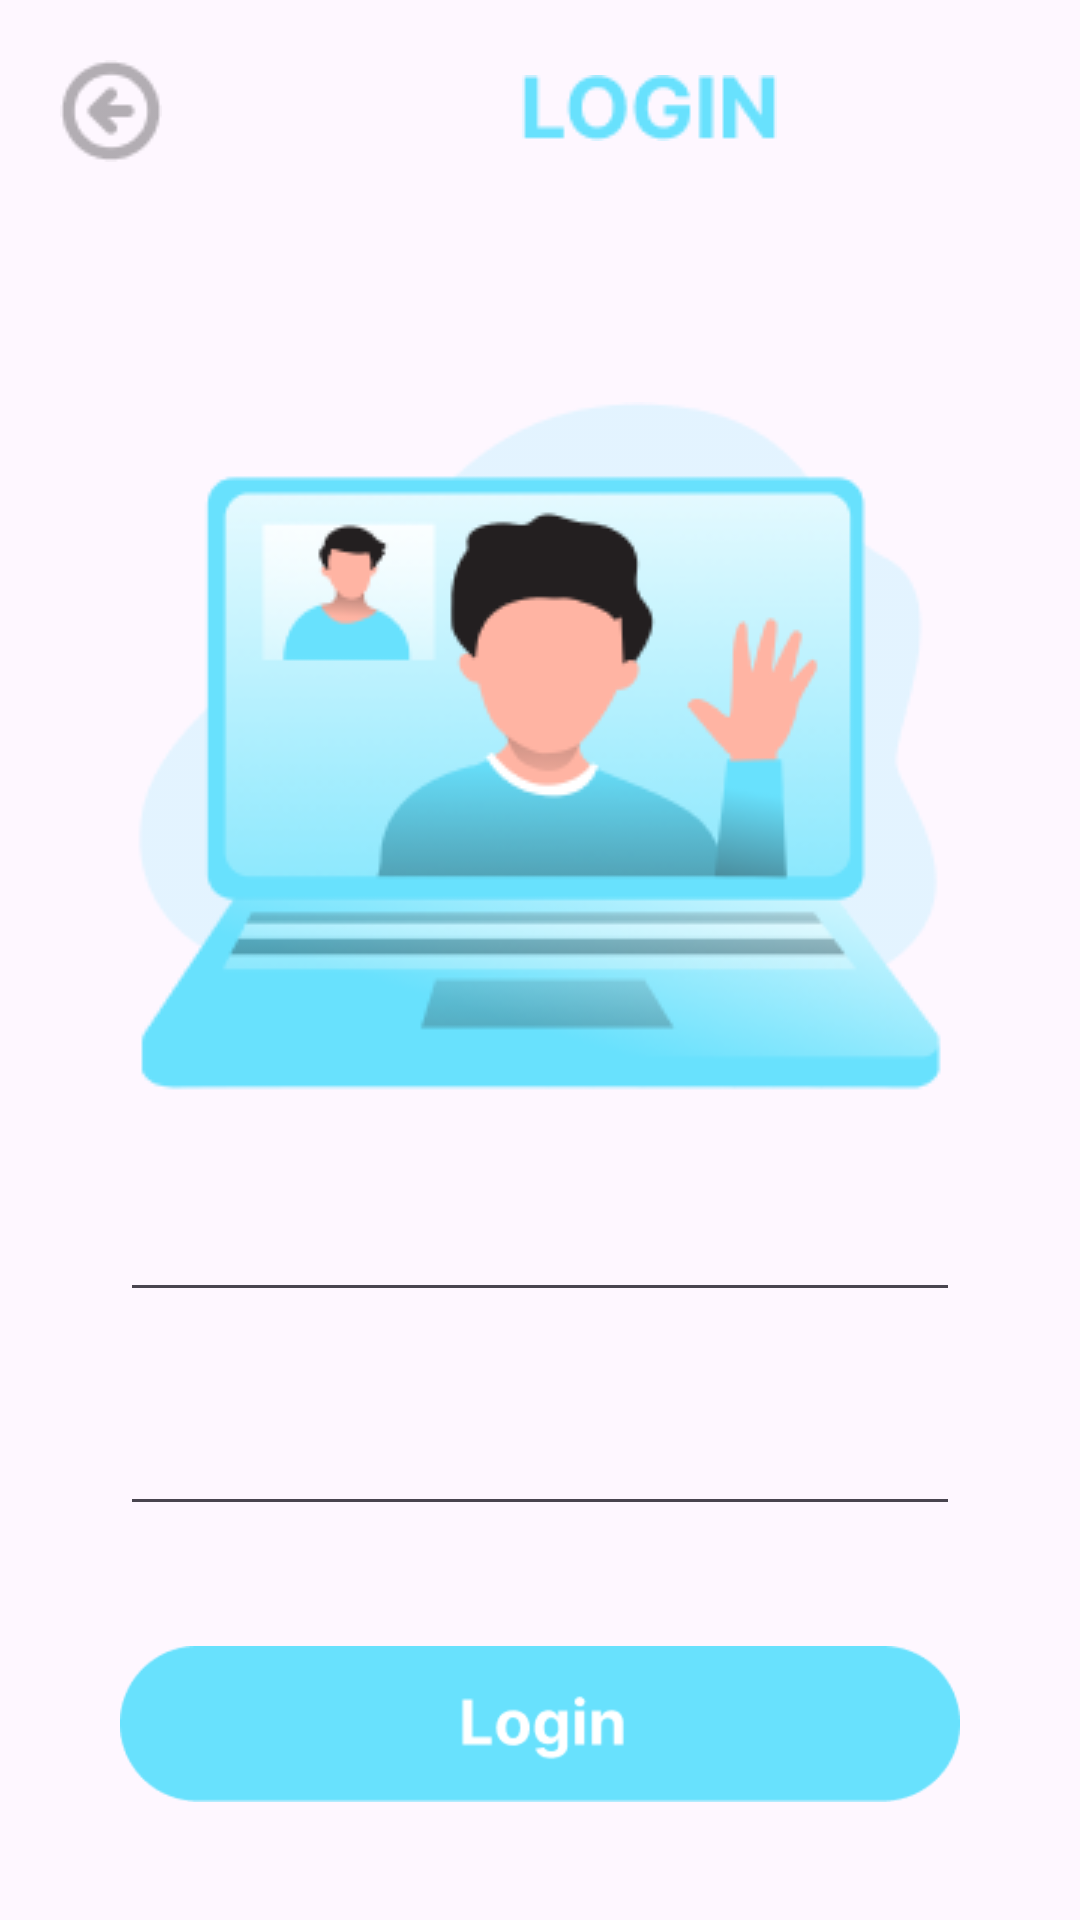

Icons on this 1080 x 1920 Android screen, each with its box as (x1, y1, x2, y2):
arrow: (62, 62, 160, 160)
